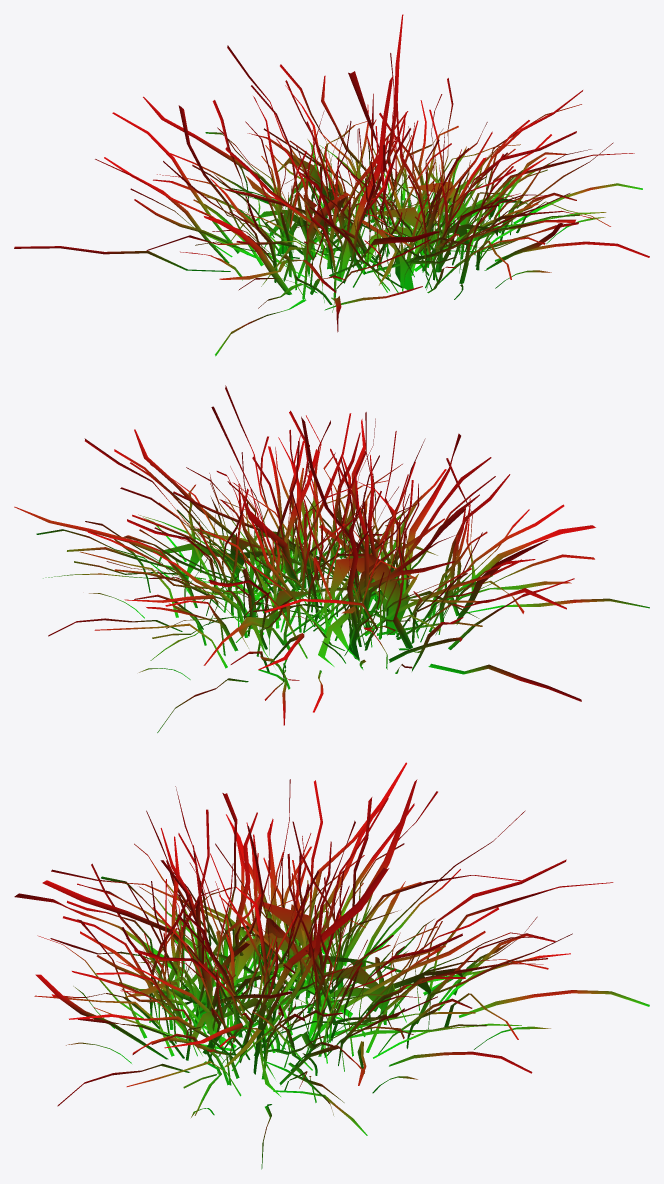
The model's file is Tundra Grass_LOD1_Var25_wk2oaeyqx.fbx.
3 renders of one model, top to bottom at view 1: azimuth 30°, elevation 25°; view 2: azimuth 150°, elevation 25°; view 3: azimuth 270°, elevation 25°, orthographic. The views are drawn at different scales.
Parts seen in each view (by area): view 1: _oq5p_Var25_LOD1; view 2: _oq5p_Var25_LOD1; view 3: _oq5p_Var25_LOD1.
Boxes of the visible parts, bbox=[...] form: _oq5p_Var25_LOD1: bbox=[14, 14, 649, 356]; _oq5p_Var25_LOD1: bbox=[14, 385, 649, 732]; _oq5p_Var25_LOD1: bbox=[14, 762, 649, 1169].
Bounding box in the file's own units: 58.74 × 20.6 × 48.24.
